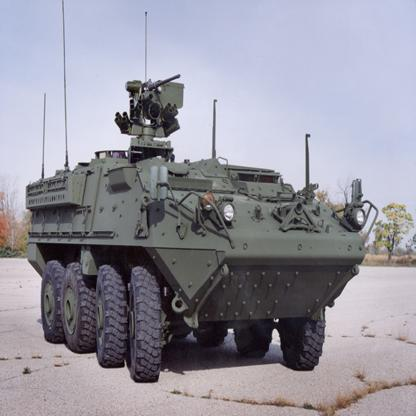Tank: (26, 95, 382, 390)
